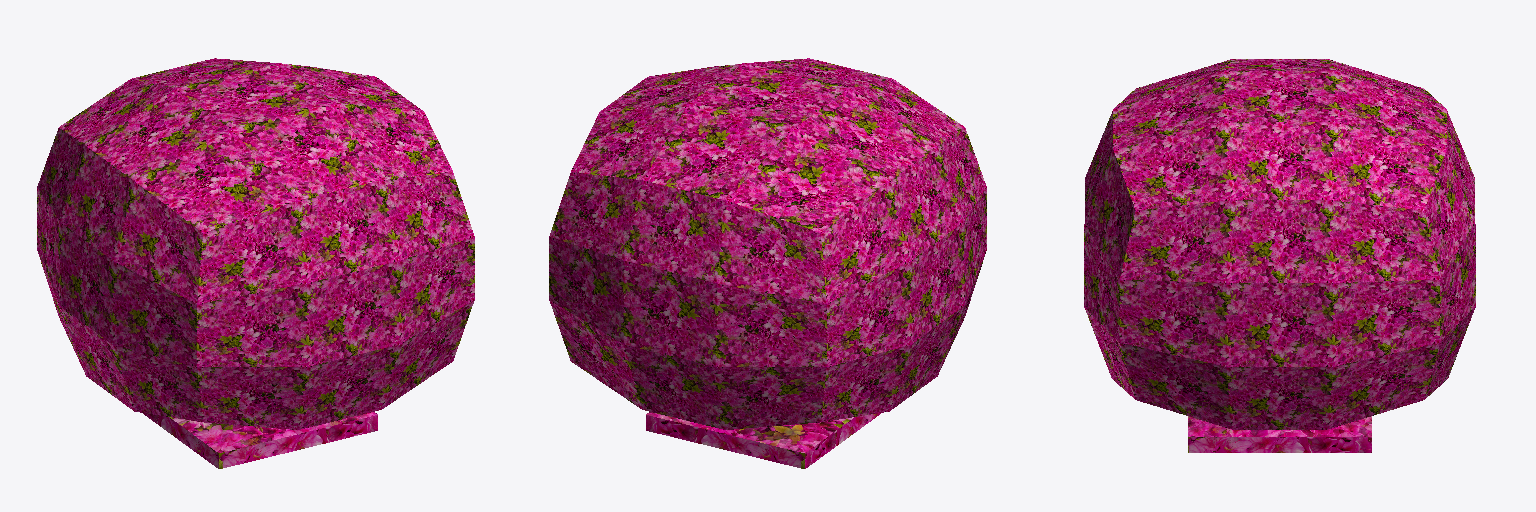
3 views of the same model, side by side, from view 1: azimuth 30°, elevation 25°; view 2: azimuth 150°, elevation 25°; view 3: azimuth 270°, elevation 25° (orthographic).
Visible parts, largest first — view 1: Cube_0.002; view 2: Cube_0.002; view 3: Cube_0.002.
Boxes of the visible parts, box(x1,y1,x2,y2) form: Cube_0.002: box(37, 58, 474, 468); Cube_0.002: box(549, 58, 986, 468); Cube_0.002: box(1084, 59, 1475, 452).
Bounding box in the file's own units: 2.42 × 2.18 × 2.42.
1 materials, 1 textured.